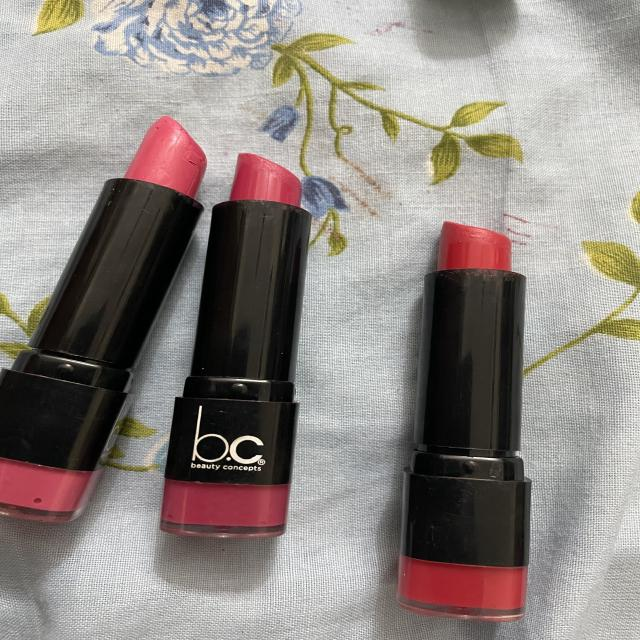lip stick: (0, 108, 225, 536), (378, 202, 556, 631), (150, 142, 331, 555)
